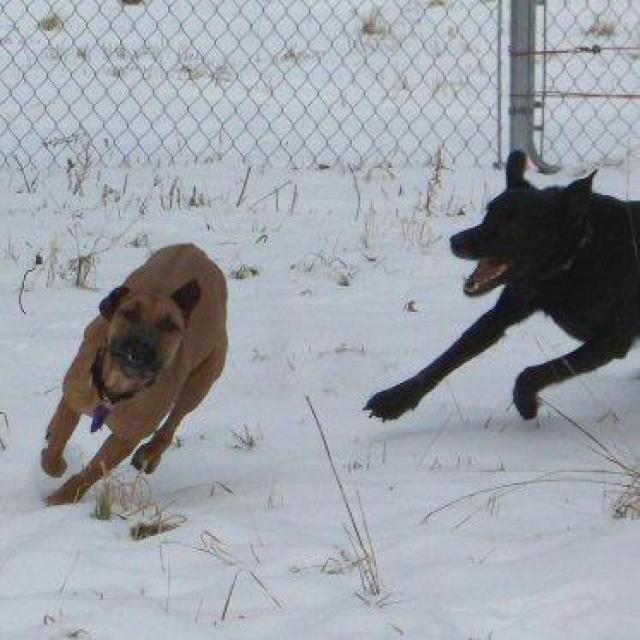rhodesian_ridgeback: (41, 240, 232, 510)
